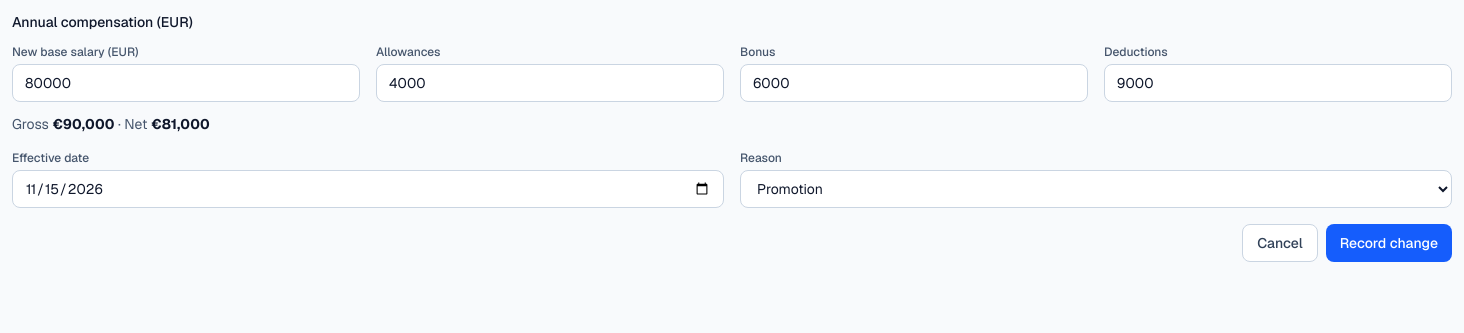
Test: SalaryChangeForm › shows the business-rule error returned by the API
Click the button "Record change" at (1389, 243), box [1326, 224, 1452, 262]
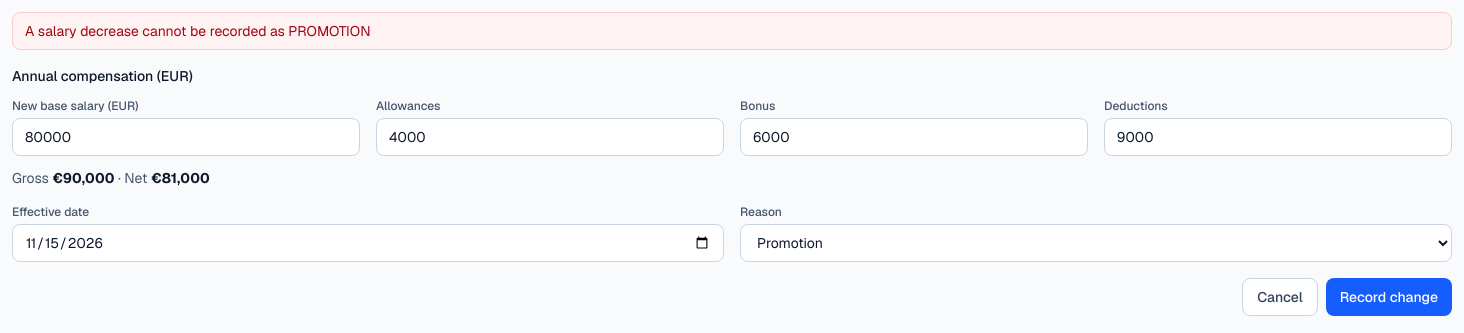
expect the message shows "decrease cannot be recorded": met, box [25, 22, 371, 40]
